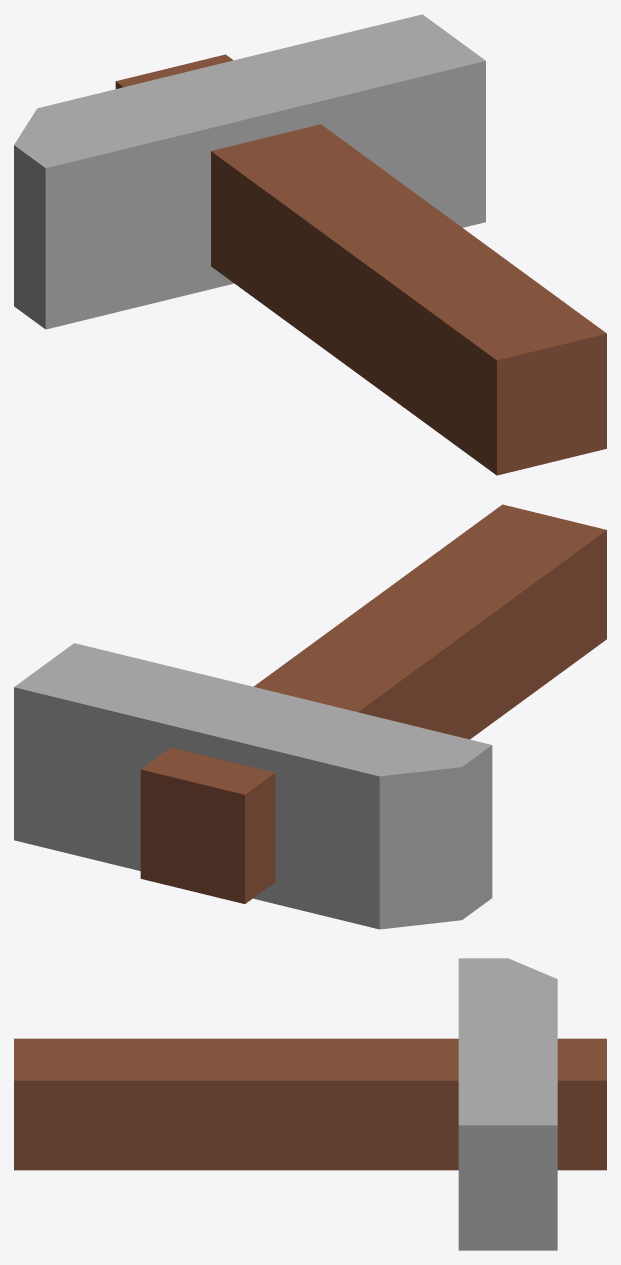
File: Hummer.fbx
3 views of the same model, one above another, from view 1: azimuth 30°, elevation 25°; view 2: azimuth 150°, elevation 25°; view 3: azimuth 270°, elevation 25° (orthographic). The views are drawn at different scales.
Parts seen in each view (by area): view 1: Hummer; view 2: Hummer; view 3: Hummer.
Boxes of the visible parts, x1,y1,x2,y2 form: Hummer: (14, 14, 606, 475); Hummer: (14, 504, 606, 929); Hummer: (14, 958, 606, 1250).
Size of the model in its own units: 0.2 by 0.07 by 0.3.
